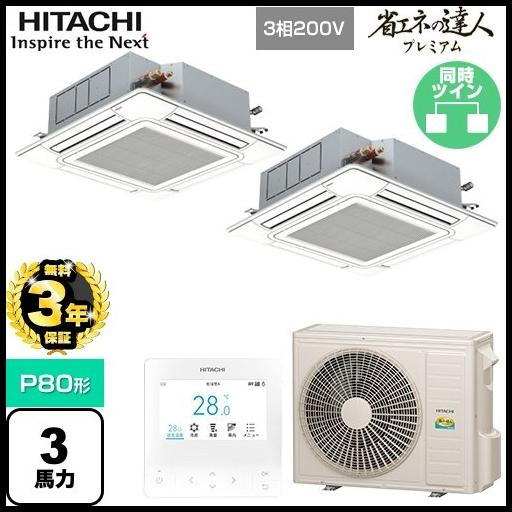4-way-ac: (18, 85, 286, 196), (227, 166, 501, 271)
